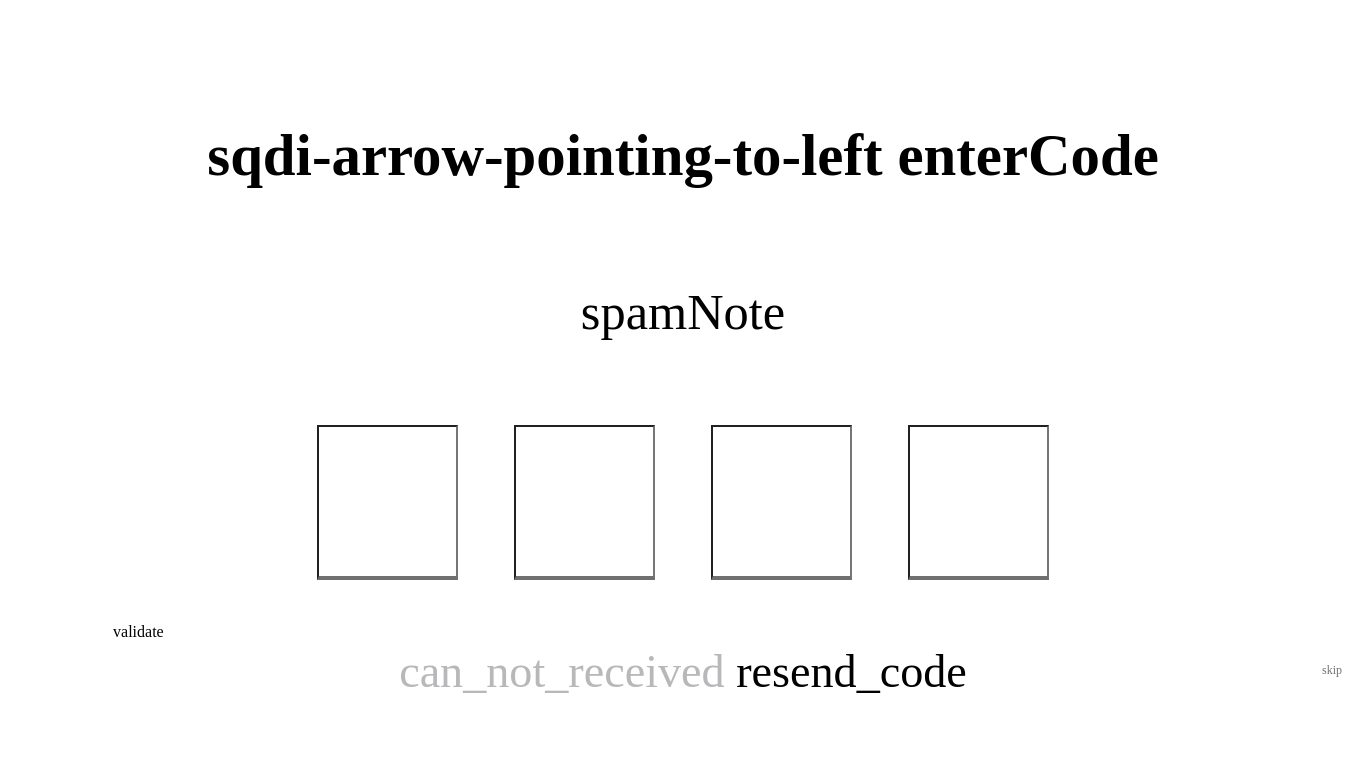
Signup › should show error message if pin is not correct
(page scrolled)
Click the button "validate" at (138, 632), box [113,623,164,640]
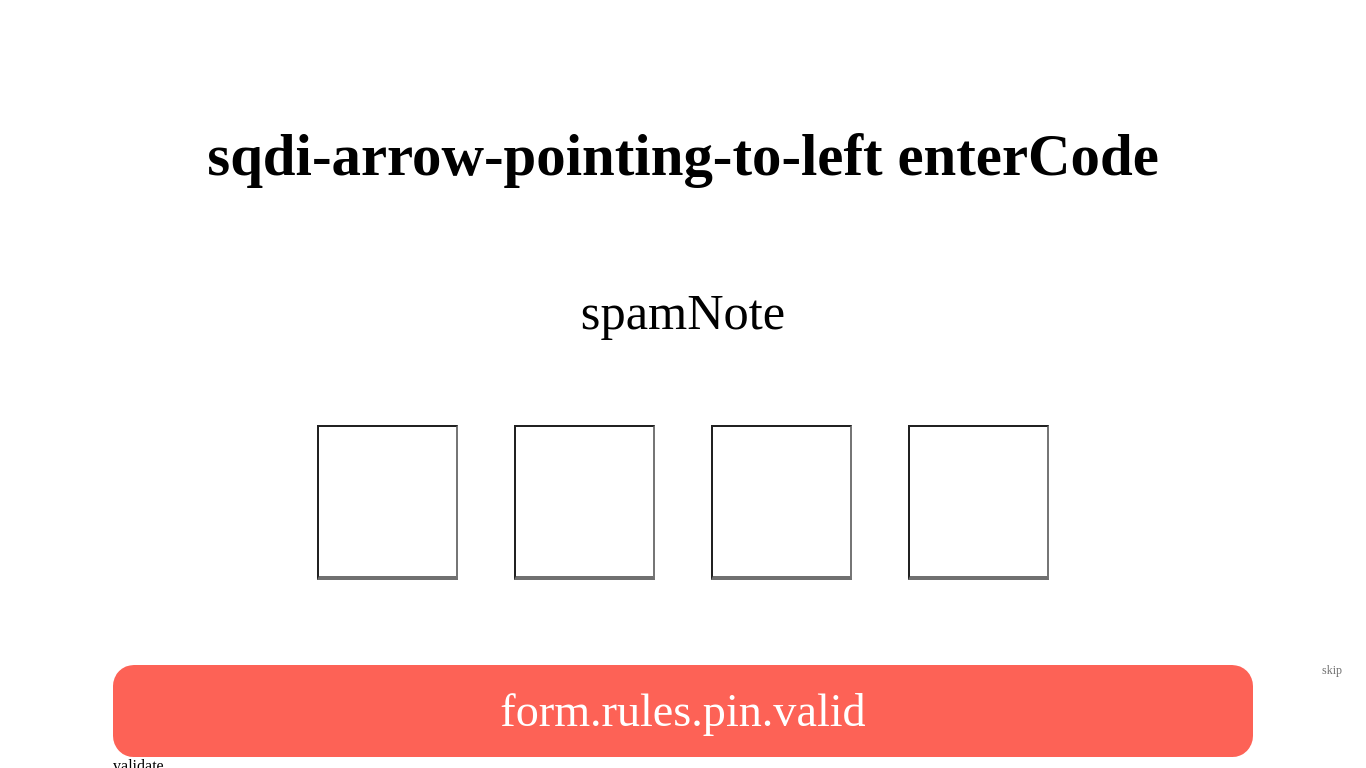
Now the text "form.rules.pin.valid" is shown, box [113,665,1253,757]
